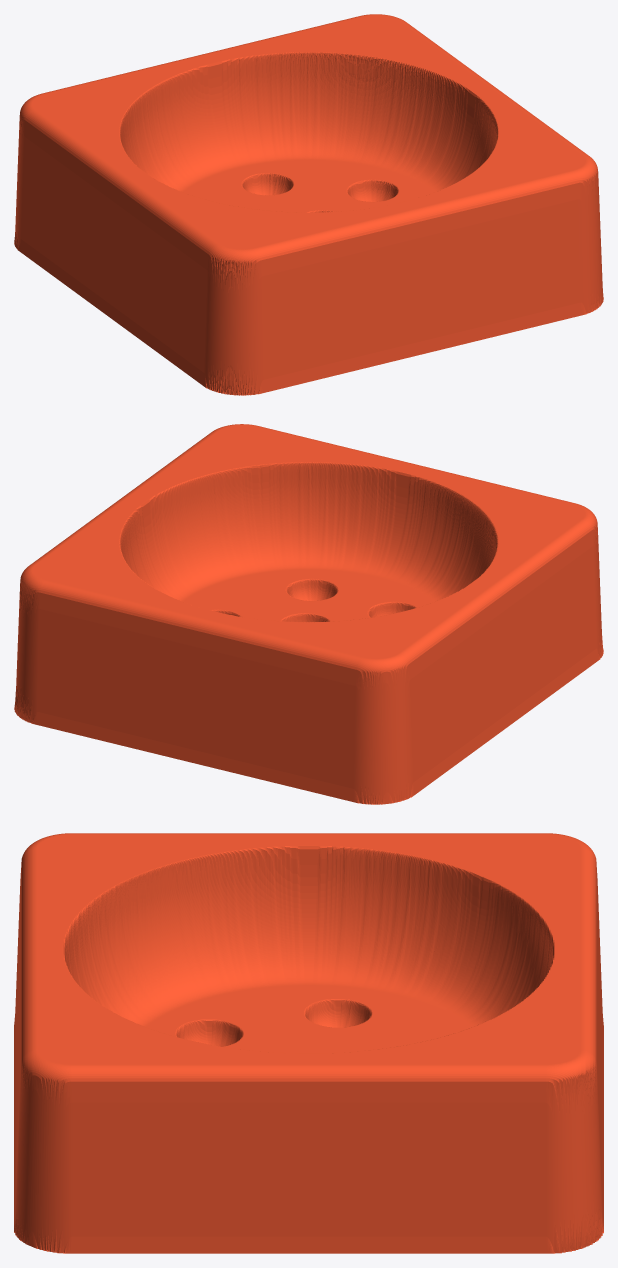
File: mold.glb
3 views of the same model, one above another, from view 1: azimuth 30°, elevation 25°; view 2: azimuth 150°, elevation 25°; view 3: azimuth 270°, elevation 25° (orthographic). The views are drawn at different scales.
Visible parts, largest first — view 1: geometry_0; view 2: geometry_0; view 3: geometry_0.
Part boxes in pixels (x1,y1,x2,y2): geometry_0: (14, 14, 603, 395); geometry_0: (14, 424, 603, 804); geometry_0: (14, 833, 603, 1253).
Size of the model in its own units: 0.0924 by 0.031 by 0.0924.
